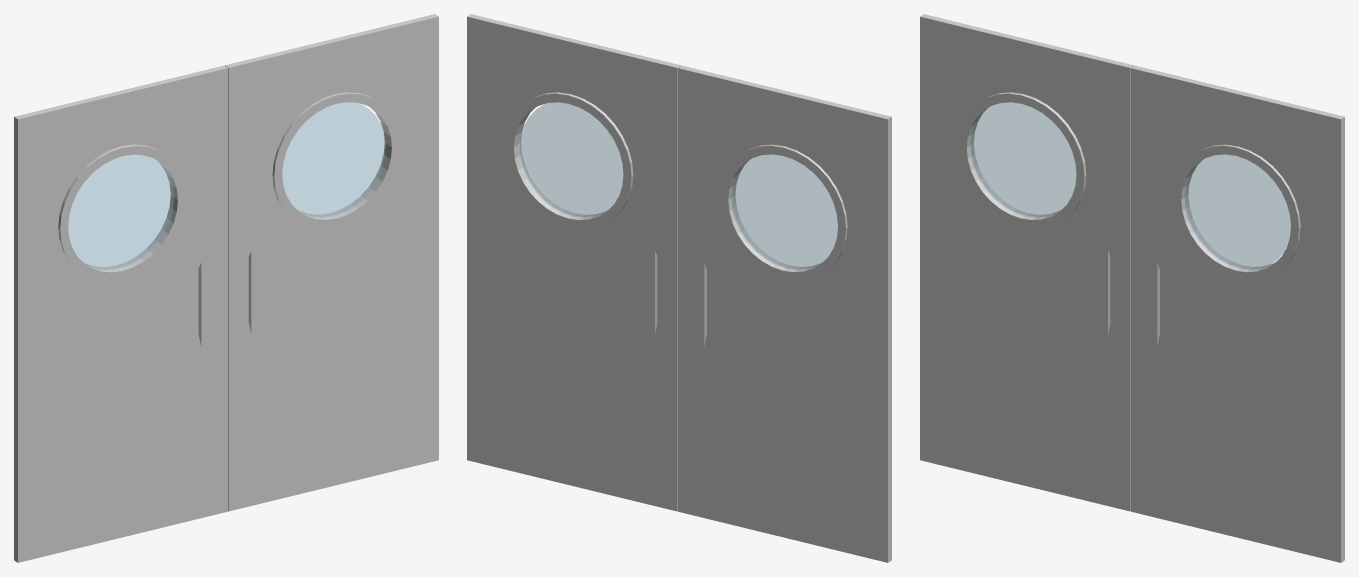
File: door.glb
3 renders of one model, left to right at view 1: azimuth 30°, elevation 25°; view 2: azimuth 150°, elevation 25°; view 3: azimuth 330°, elevation 25°, orthographic.
Parts seen in each view (by area): view 1: Cube.019, Cube.020, Cylinder.014, Cylinder.013; view 2: Cube.019, Cube.020, Cylinder.014, Cylinder.013; view 3: Cube.020, Cube.019, Cylinder.013, Cylinder.014.
Part boxes in pixels (bbox=[...]): Cube.019: bbox=[14, 65, 227, 562]; Cube.020: bbox=[225, 14, 438, 511]; Cylinder.014: bbox=[68, 155, 174, 269]; Cylinder.013: bbox=[282, 102, 385, 217]; Cube.019: bbox=[678, 65, 891, 562]; Cube.020: bbox=[467, 14, 680, 511]; Cylinder.014: bbox=[731, 154, 837, 269]; Cylinder.013: bbox=[520, 102, 622, 217]; Cube.020: bbox=[1131, 65, 1344, 562]; Cube.019: bbox=[920, 14, 1133, 511]; Cylinder.013: bbox=[1184, 154, 1290, 269]; Cylinder.014: bbox=[970, 102, 1075, 217].
Bounding box in the file's own units: 18.26 × 18.38 × 0.8979.
